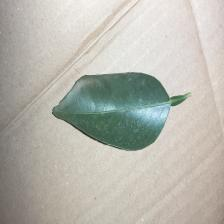healthy: (58, 69, 207, 159)
